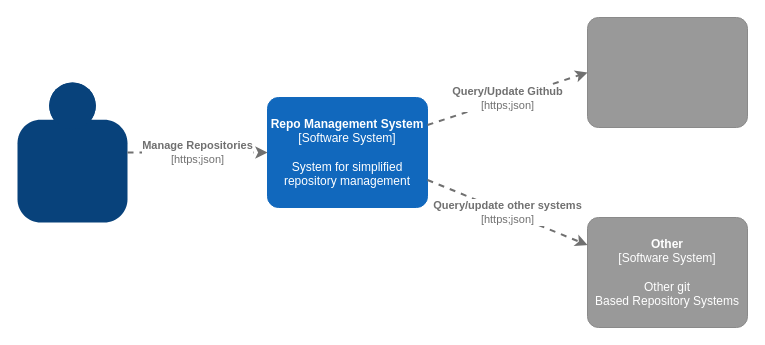
This 765x345 diagram has some shape labels left out. The centre of each missing label's shape, as x and y in pixels:
"GitHub [Software System] Github Cloud Repository System" belongs at [667,72].
"User [Person] Consumer of Repo Management System" belongs at [72,152].
